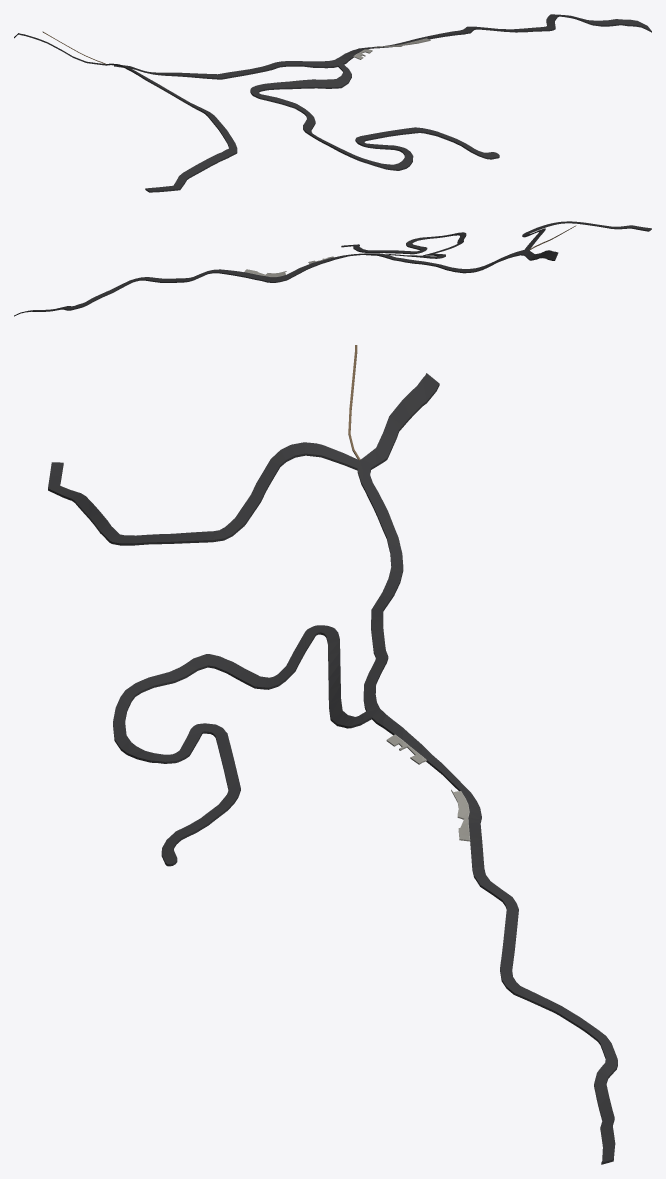
3 renders of one model, top to bottom at view 1: azimuth 30°, elevation 25°; view 2: azimuth 150°, elevation 25°; view 3: azimuth 270°, elevation 25°, orthographic. The views are drawn at different scales.
Size of the model in its own units: 587 by 188 by 291.
